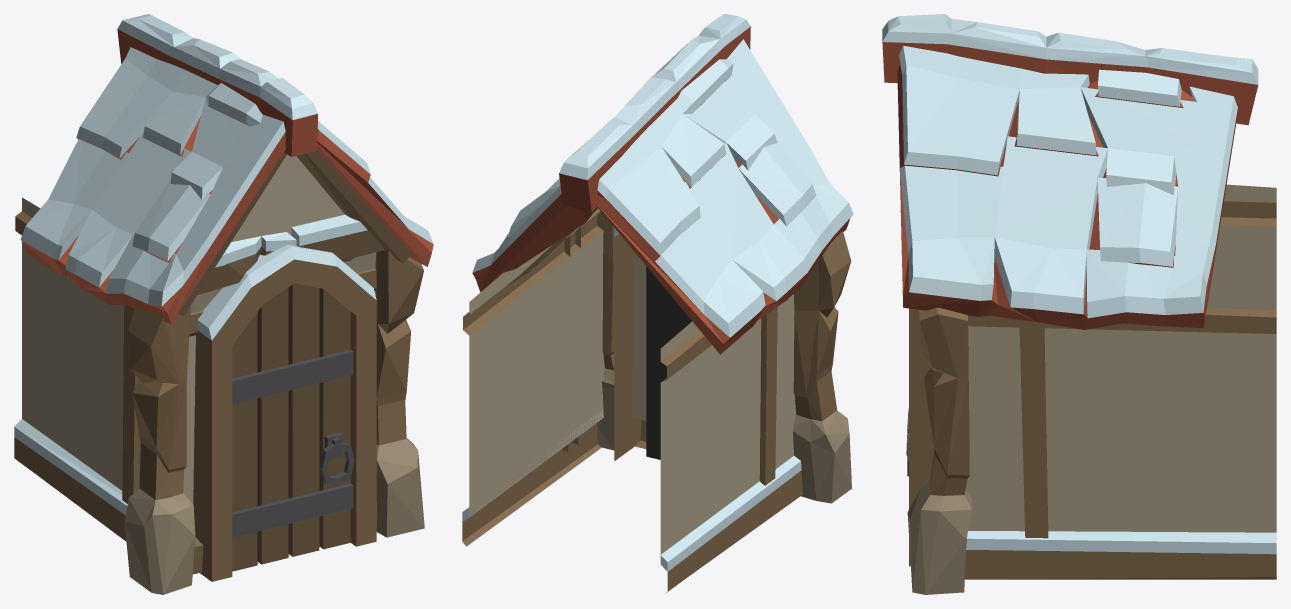
Rendered from SM_Bld_House_Door_04_Snow.gltf.
The picture shows the model from 3 angles, left to right: view 1: azimuth 30°, elevation 25°; view 2: azimuth 150°, elevation 25°; view 3: azimuth 270°, elevation 25°; orthographic projection. The views are drawn at different scales.
Visible parts, largest first — view 1: SM_Bld_House_Door_04_Snow; view 2: SM_Bld_House_Door_04_Snow; view 3: SM_Bld_House_Door_04_Snow.
Part boxes in pixels (x1=…): SM_Bld_House_Door_04_Snow: x1=14, y1=14, x2=433, y2=594; SM_Bld_House_Door_04_Snow: x1=462, y1=14, x2=853, y2=593; SM_Bld_House_Door_04_Snow: x1=882, y1=14, x2=1276, y2=594.
Bounding box in the file's own units: 2.14 × 3.36 × 2.38.
1 material, 1 textured.
